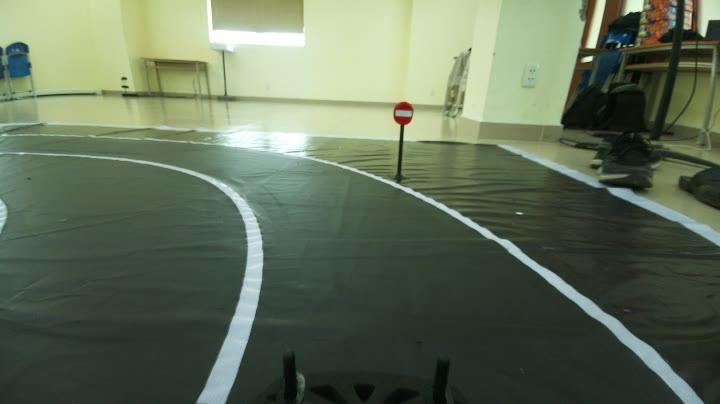no_entry: (386, 88, 418, 126)
